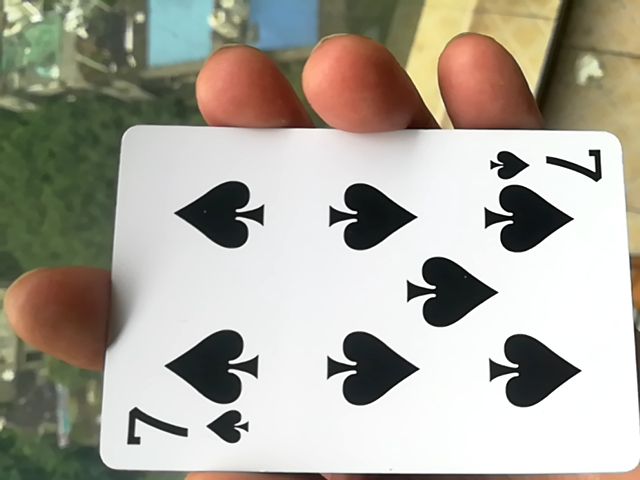ht 7: (86, 119, 633, 480)
